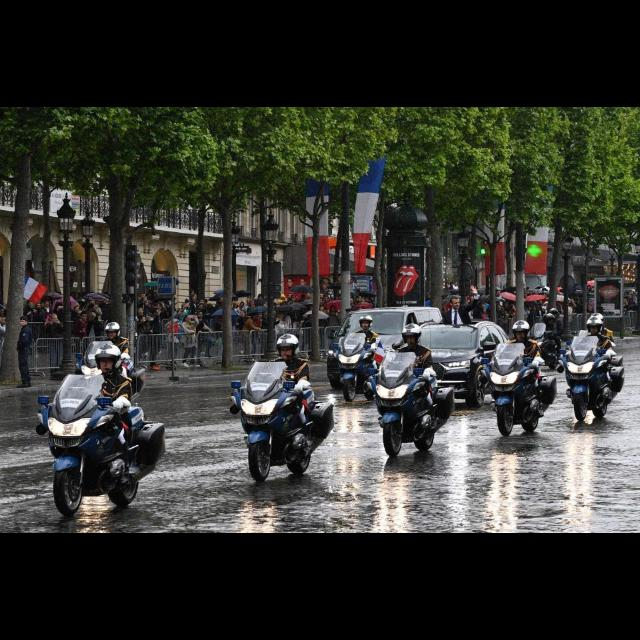head: (96, 350, 120, 376), (515, 323, 531, 342), (405, 330, 419, 350), (280, 342, 294, 362), (591, 316, 605, 330), (107, 324, 119, 340), (361, 317, 372, 331), (450, 296, 460, 310), (590, 322, 600, 336), (19, 316, 29, 328), (184, 316, 192, 322), (252, 313, 258, 321), (552, 310, 558, 318)
person: (49, 342, 135, 496), (238, 332, 314, 461), (372, 324, 438, 446), (487, 320, 545, 420), (558, 317, 614, 405), (327, 314, 385, 388), (440, 285, 484, 381), (94, 320, 136, 400), (590, 312, 618, 396), (12, 318, 38, 392), (181, 314, 203, 372), (241, 310, 263, 364), (548, 306, 566, 362)
